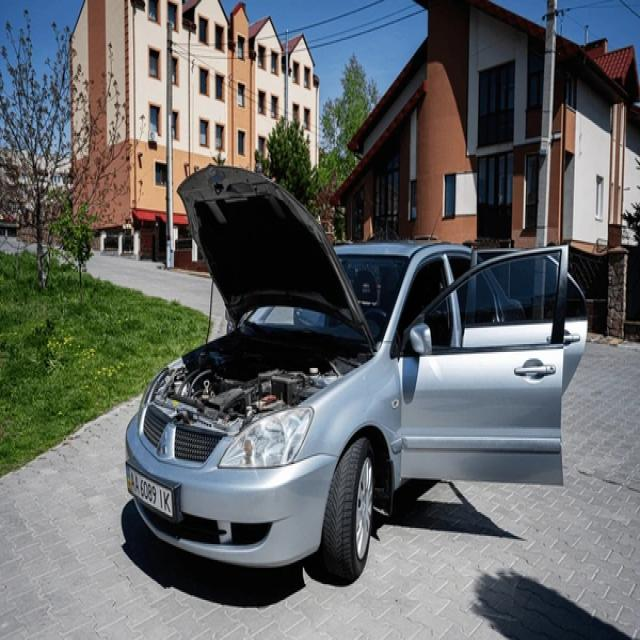mitsubishi: (152, 424, 180, 466)
